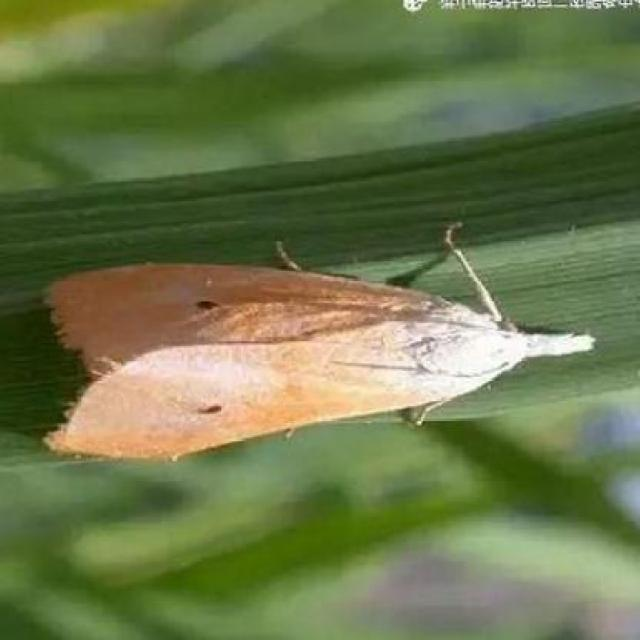stem-borer: (34, 250, 598, 464)
